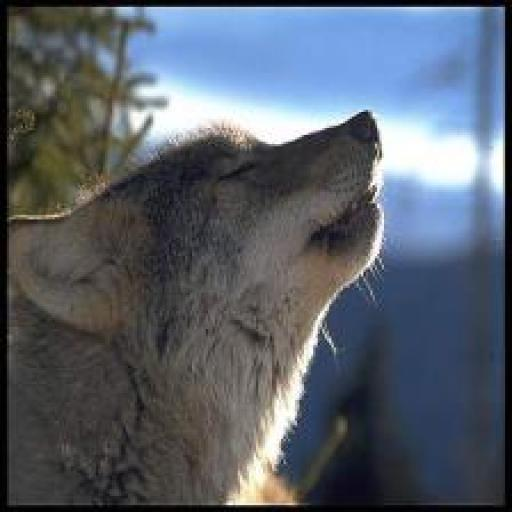wolf: (0, 80, 411, 512)
